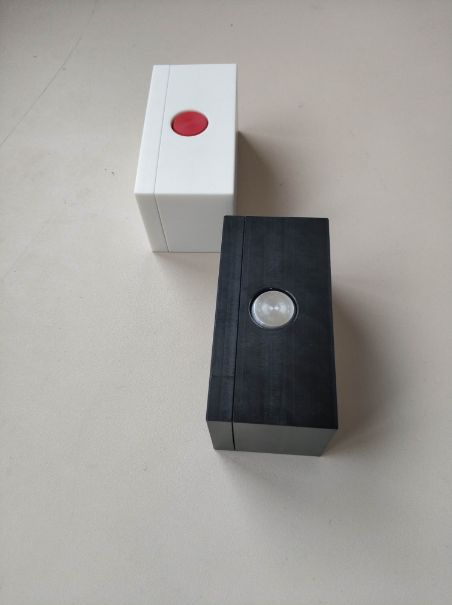black+black+silver: (202, 211, 343, 454)
white+white+red: (130, 60, 242, 256)
